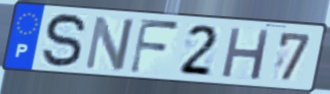2: (175, 23, 222, 79)
7: (278, 31, 311, 83)
F: (127, 16, 182, 76)
H: (219, 25, 273, 82)
N: (82, 14, 137, 73)
S: (40, 11, 89, 70)
